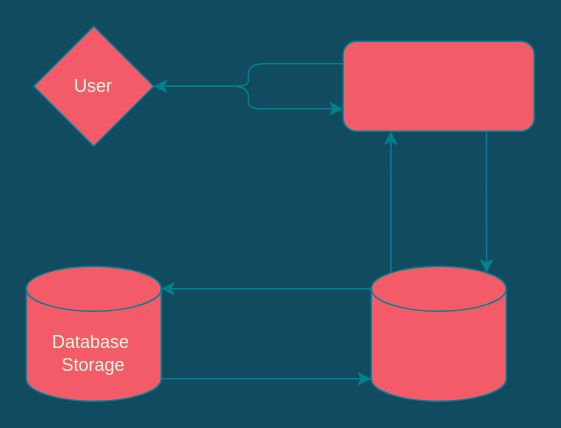
Some shapes in this 561 by 428 pixel diagram are drawn without their labels. The centre of each missing label's shape, as x and y in pixels:
"Web Browser" goes at [438,85].
"Web Server" goes at [438,333].
